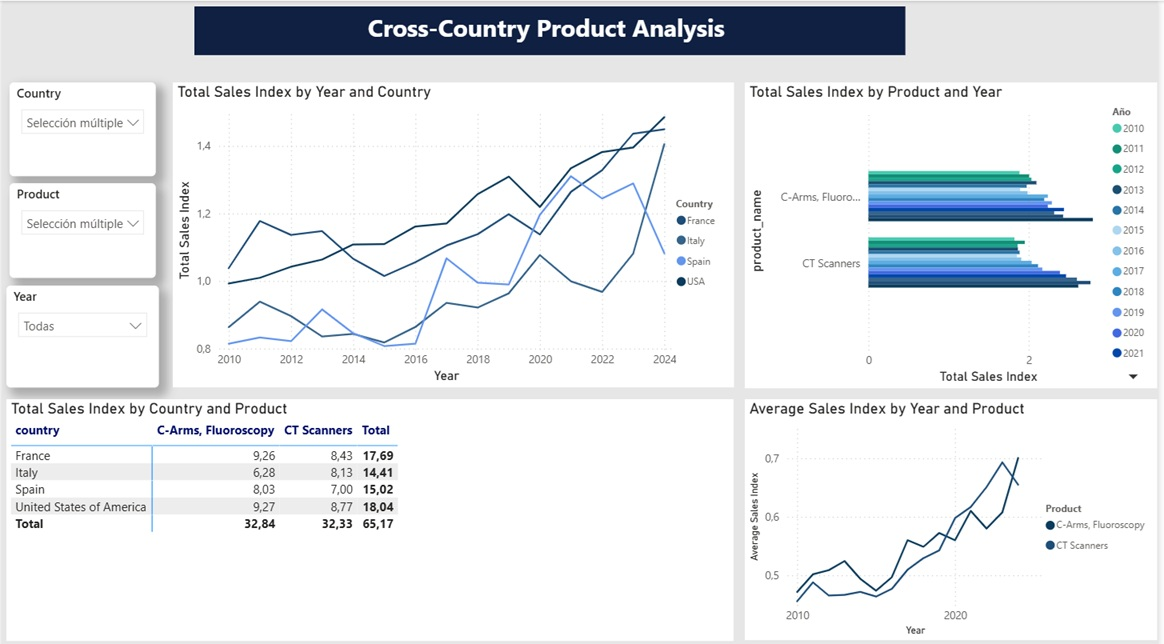

Layout of this report page (visuals, bound fields, positions):
{"tool":"powerbi","page":{"name":"Page 5","canvas":[1280,720],"ordinal":5},"visuals":[{"type":"textbox","box":[212.5,6.6,787.5,54.1],"z":0},{"type":"slicer","title":"Country","fields":{"Values":["Countries.country"]},"box":[8.4,90.6,162.5,103.6],"z":1000},{"type":"slicer","title":"Product","fields":{"Values":["Products.product_name"]},"box":[8.4,202.6,162.5,105.5],"z":2000},{"type":"slicer","title":"Year","fields":{"Values":["Results.year"]},"box":[4.7,315.6,169,113],"z":3000},{"type":"lineChart","title":"Total Sales Index by Year and Country","fields":{"Category":["Results.year"],"Y":["_Metrics.Total Annual Sales Index"],"Series":["Countries.country"]},"box":[188.6,90.6,621.8,338],"z":4000},{"type":"clusteredBarChart","title":"Total Sales Index by Product and Year","fields":{"Category":["Products.product_name"],"Y":["_Metrics.Total Annual Sales Index"],"Series":["Results.year"]},"box":[822.7,90.1,457.3,338.7],"z":5000},{"type":"pivotTable","title":"Total Sales Index by Country and Product","fields":{"Rows":["Results.country"],"Columns":["Products.product_name"],"Values":["_Metrics.Total Annual Sales Index"]},"box":[4.7,441.2,805.6,267.6],"z":6000},{"type":"lineChart","title":"Average Sales Index by Year and Product","fields":{"Category":["Results.year"],"Y":["_Metrics.Average Sales Index"],"Series":["Products.product_name"]},"box":[822.7,441.2,457.3,266.6],"z":7000}]}

Visuals, with their boxes in screenshot pixels (x1, y1, x2, y2), scaled from the page's 1280x720 canvas onto the 1164x644 screenshot:
textbox: <bbox>193, 6, 909, 54</bbox>
"Country" slicer: <bbox>8, 81, 155, 174</bbox>
"Product" slicer: <bbox>8, 181, 155, 276</bbox>
"Year" slicer: <bbox>4, 282, 158, 383</bbox>
"Total Sales Index by Year and Country" lineChart: <bbox>172, 81, 737, 383</bbox>
"Total Sales Index by Product and Year" clusteredBarChart: <bbox>748, 81, 1163, 384</bbox>
"Total Sales Index by Country and Product" pivotTable: <bbox>4, 395, 737, 634</bbox>
"Average Sales Index by Year and Product" lineChart: <bbox>748, 395, 1163, 633</bbox>
